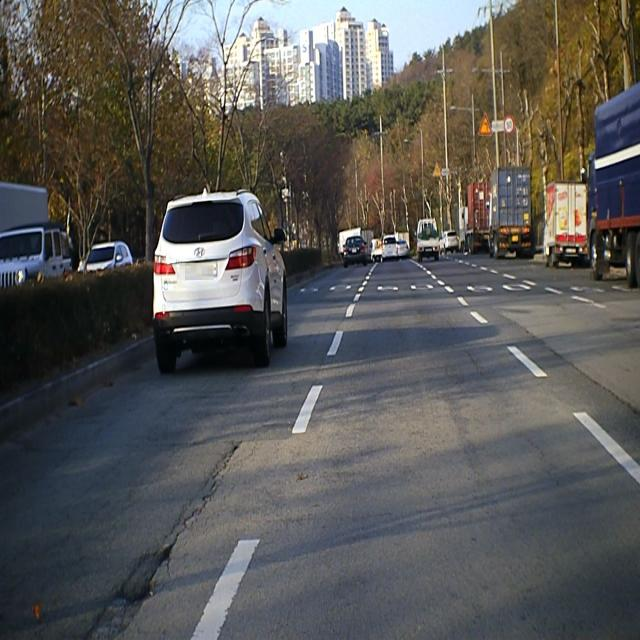Pothole: (90, 442, 246, 640)
